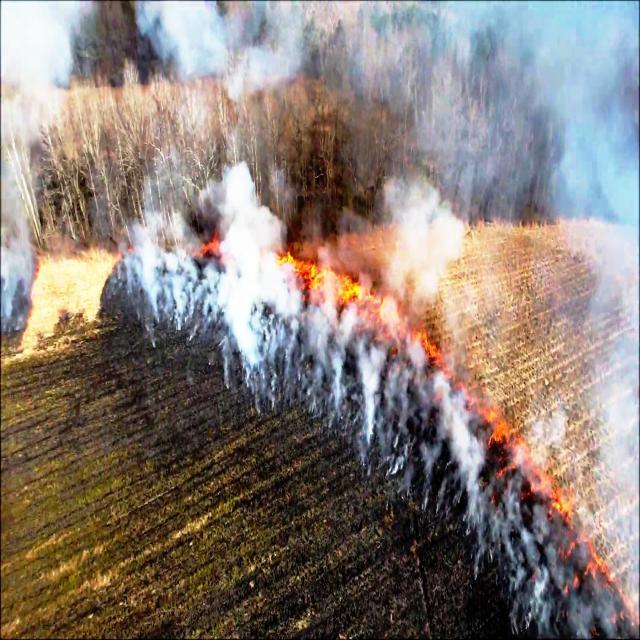Fire: (552, 477, 638, 630), (464, 382, 546, 489), (378, 285, 452, 382), (302, 252, 374, 320)
Smoke: (0, 4, 640, 241), (106, 164, 288, 382), (553, 212, 640, 506), (472, 501, 556, 632), (381, 392, 468, 500), (296, 324, 378, 434), (379, 178, 464, 284), (0, 240, 40, 344)
